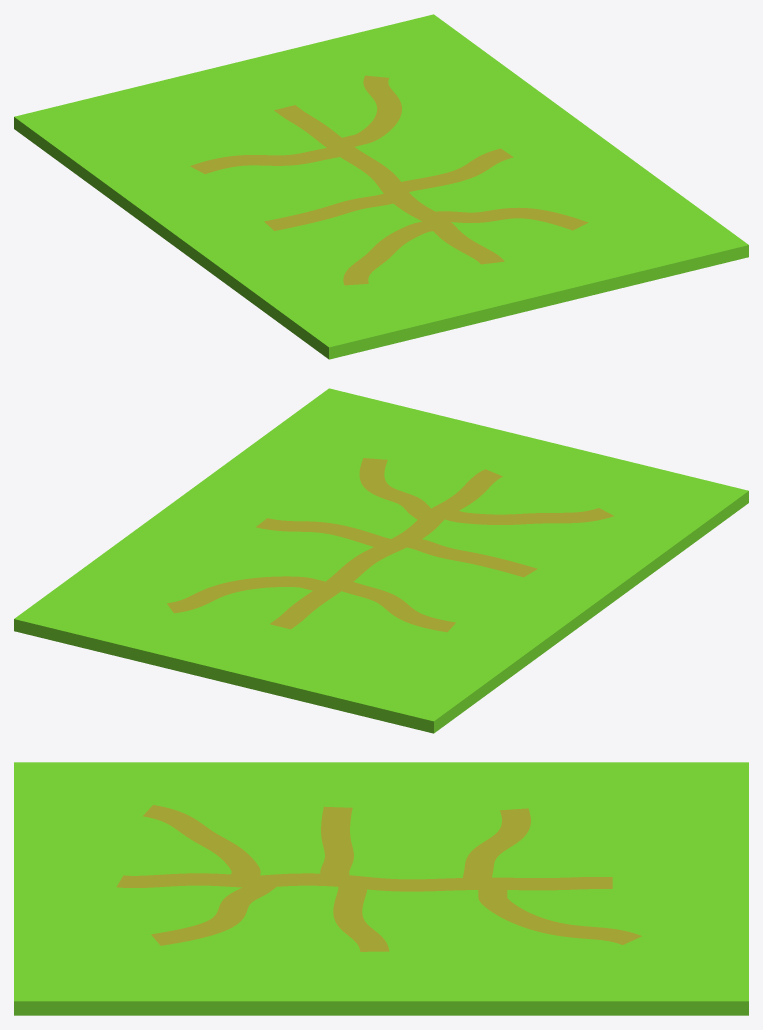
Rendered from Farm_Base_New.fbx.
3 views of the same model, one above another, from view 1: azimuth 30°, elevation 25°; view 2: azimuth 150°, elevation 25°; view 3: azimuth 270°, elevation 25° (orthographic). The views are drawn at different scales.
Parts seen in each view (by area): view 1: Base, Road.003, Road.001, Road.006, Road.007, Road.002, Road.004, Road.005; view 2: Base, Road.003, Road.001, Road.006, Road.007, Road.002, Road.004, Road.005; view 3: Base, Road.003, Road.001, Road.006, Road.007, Road.002, Road.004, Road.005.
Boxes of the visible parts, x1,y1,x2,y2 form: Base: (14,14,748,359); Road.003: (274,105,504,264); Road.001: (342,75,401,146); Road.006: (343,221,432,285); Road.007: (436,207,588,230); Road.002: (190,148,339,174); Road.004: (264,193,392,230); Road.005: (401,148,513,191); Base: (14,388,748,733); Road.003: (270,469,502,629); Road.001: (167,576,324,613); Road.006: (445,508,613,524); Road.007: (359,458,430,519); Road.002: (342,582,455,632); Road.004: (407,539,537,577); Road.005: (256,518,390,546); Base: (14,762,748,1015); Road.003: (116,873,612,891); Road.001: (478,890,641,944); Road.006: (143,805,260,875); Road.007: (151,887,275,945); Road.002: (462,808,530,877); Road.004: (320,806,353,875); Road.005: (333,887,389,951).
Bounding box in the file's own units: 9360 × 262 × 12168.
